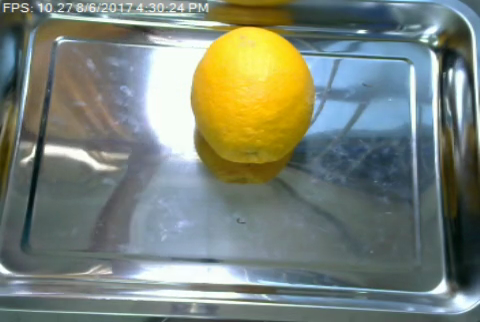Orange: (191, 26, 316, 165)
